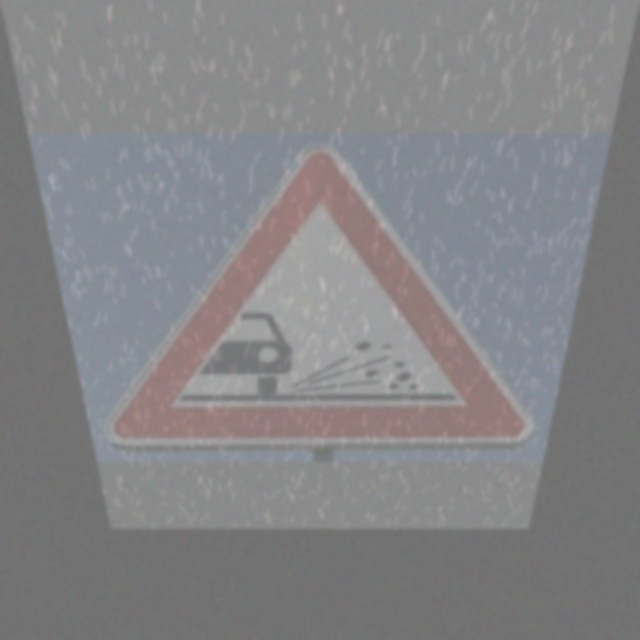Loose_Gravel: (96, 167, 555, 444)
